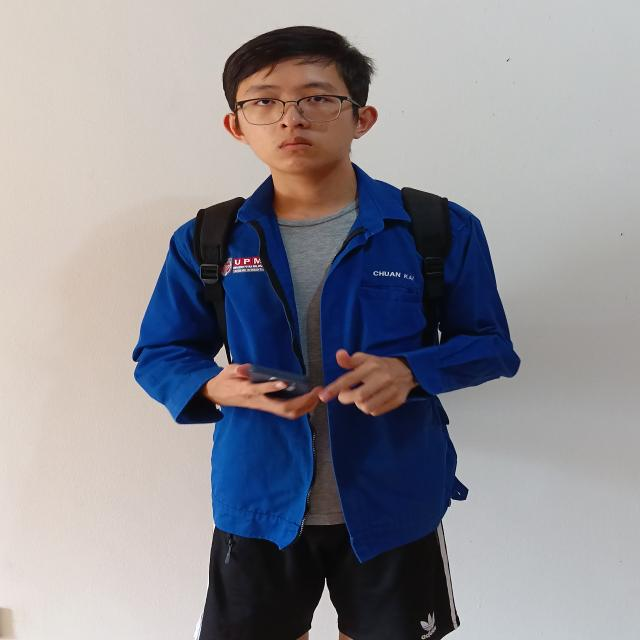person_with_labcoat: (133, 26, 520, 640)
